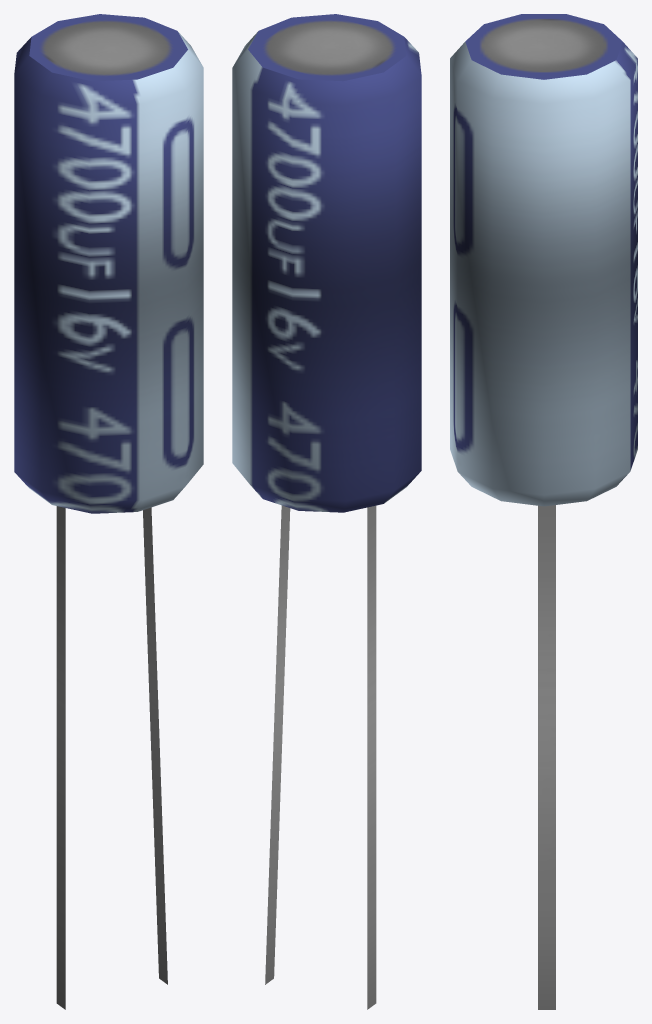
Rendered from blue_capacitor.FBX.
3 renders of one model, left to right at view 1: azimuth 30°, elevation 25°; view 2: azimuth 150°, elevation 25°; view 3: azimuth 270°, elevation 25°, orthographic.
Parts seen in each view (by area): view 1: blue_capacitor; view 2: blue_capacitor; view 3: blue_capacitor.
Boxes of the visible parts, x1,y1,x2,y2 form: blue_capacitor: (14,14,203,1009); blue_capacitor: (232,14,421,1009); blue_capacitor: (450,14,637,1009).
Size of the model in its own units: 4.42 by 24.55 by 4.47.
1 material, 1 textured.
